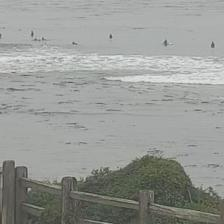surfer: (162, 39, 169, 45), (32, 37, 41, 41), (211, 41, 215, 48), (72, 41, 78, 45), (31, 30, 34, 36), (109, 34, 113, 38), (42, 37, 45, 40), (1, 33, 1, 39)
